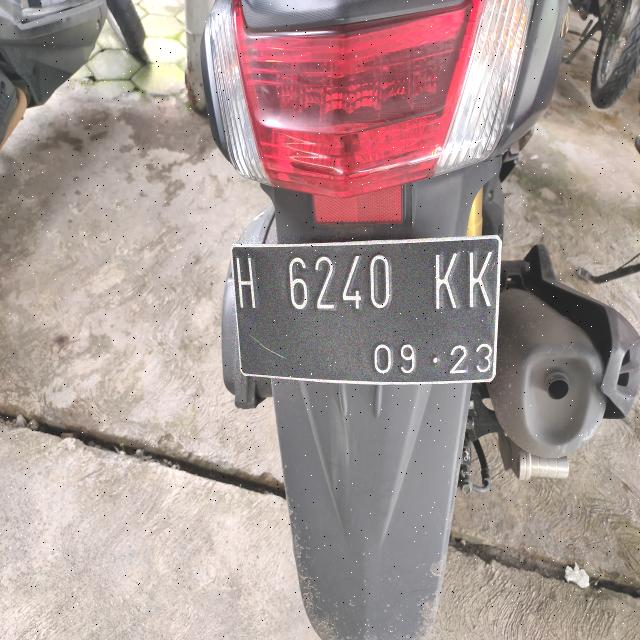plate: (232, 236, 500, 383)
